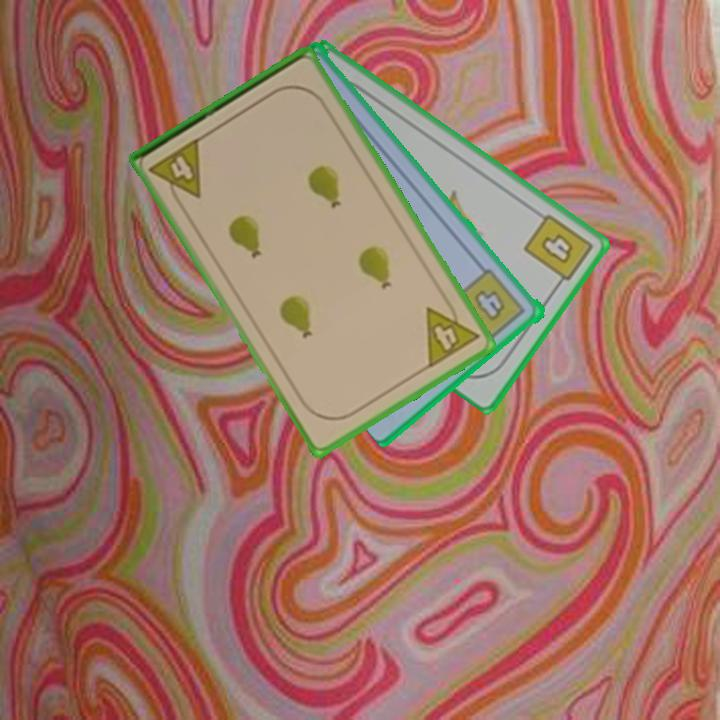4b: (520, 210, 596, 292), (453, 265, 529, 345)
4p: (422, 293, 483, 371), (146, 134, 205, 210)
